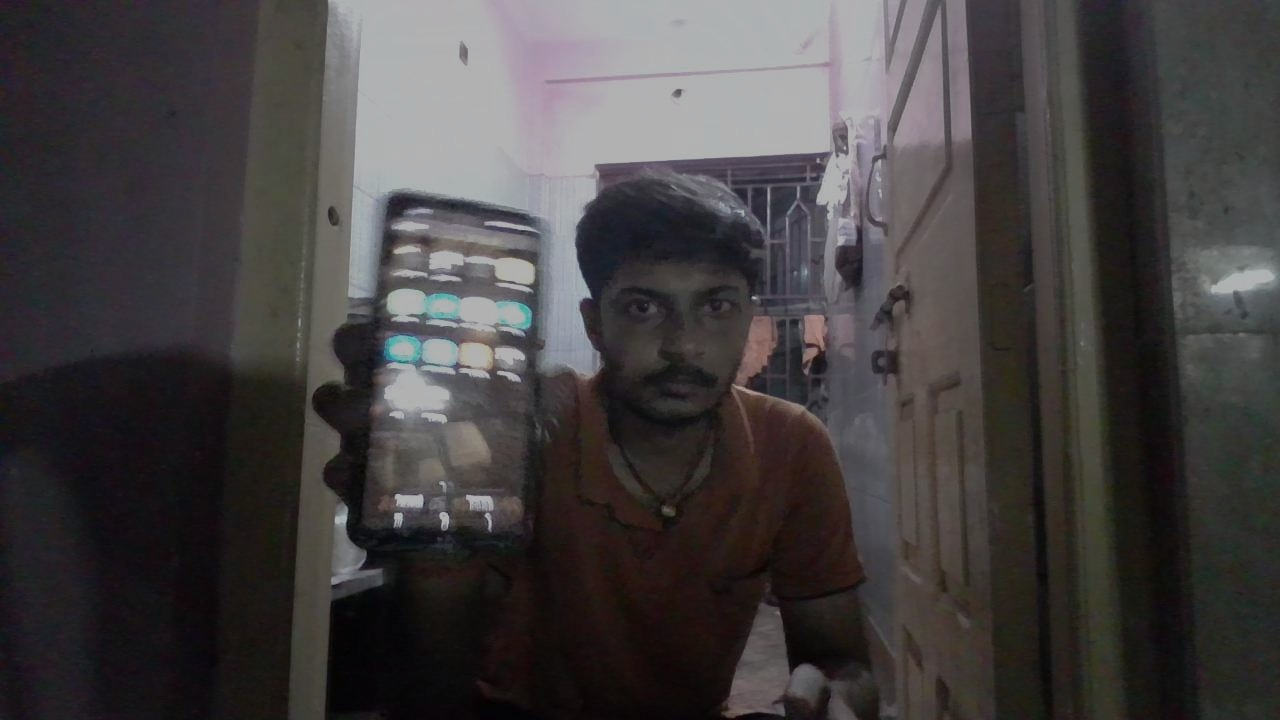red_box: (680, 396, 861, 586), (568, 408, 660, 530), (566, 496, 625, 545)
